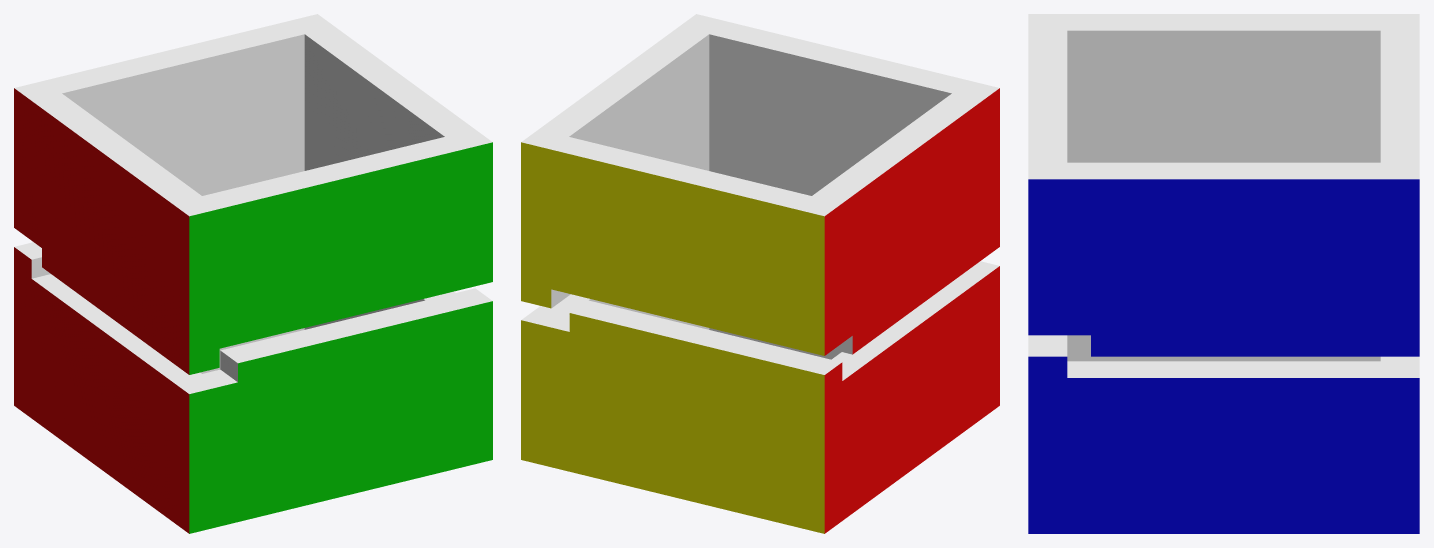
The model's file is caixa.gltf.
The picture shows the model from 3 angles, left to right: view 1: azimuth 30°, elevation 25°; view 2: azimuth 150°, elevation 25°; view 3: azimuth 270°, elevation 25°; orthographic projection. The views are drawn at different scales.
Parts seen in each view (by area): view 1: Mesh2 Model, Mesh1 Model; view 2: Mesh2 Model, Mesh1 Model; view 3: Mesh2 Model, Mesh1 Model.
Part boxes in pixels (x1,y1,x2,y2): Mesh2 Model: (14, 14, 492, 374); Mesh1 Model: (14, 242, 492, 533); Mesh2 Model: (521, 14, 999, 355); Mesh1 Model: (521, 261, 999, 533); Mesh2 Model: (1028, 14, 1419, 356); Mesh1 Model: (1028, 335, 1419, 533).
Size of the model in its own units: 0.5 by 0.5 by 0.5.
